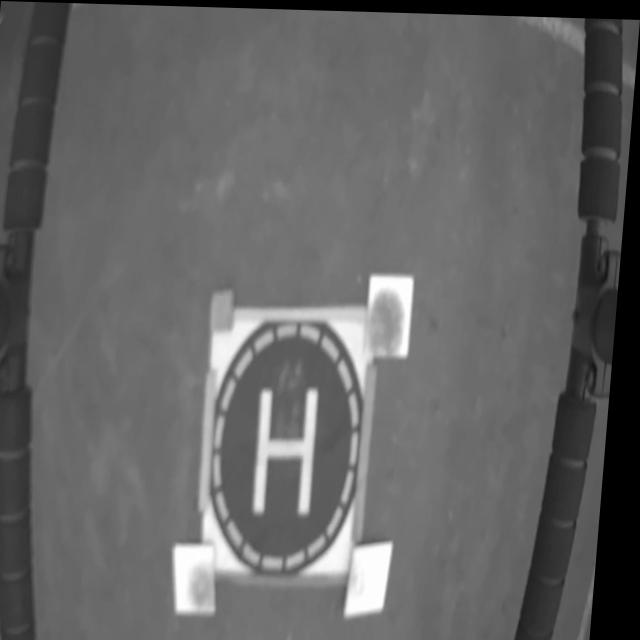Helipad: (259, 385, 326, 514)
